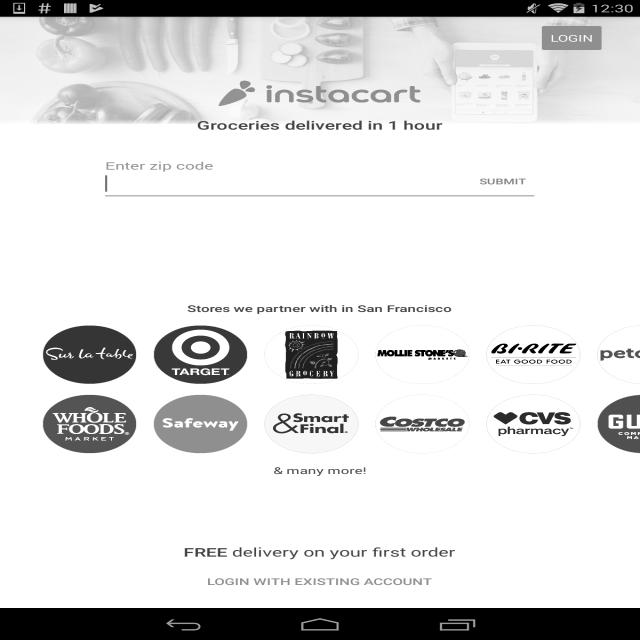Button: (194, 566, 445, 598), (537, 22, 606, 54), (470, 167, 534, 196)
EditText: (105, 169, 534, 199)
ImageView: (0, 17, 640, 124), (187, 296, 453, 329), (42, 325, 136, 384), (154, 325, 248, 384), (264, 325, 358, 384), (376, 325, 470, 384), (486, 325, 580, 384), (42, 395, 136, 453), (154, 395, 248, 453), (264, 395, 358, 453), (376, 395, 470, 453), (486, 395, 580, 453), (219, 81, 420, 106), (597, 325, 640, 384), (597, 395, 640, 453)
TextView: (183, 544, 456, 560), (196, 117, 442, 133), (187, 302, 452, 315), (274, 464, 366, 477)
